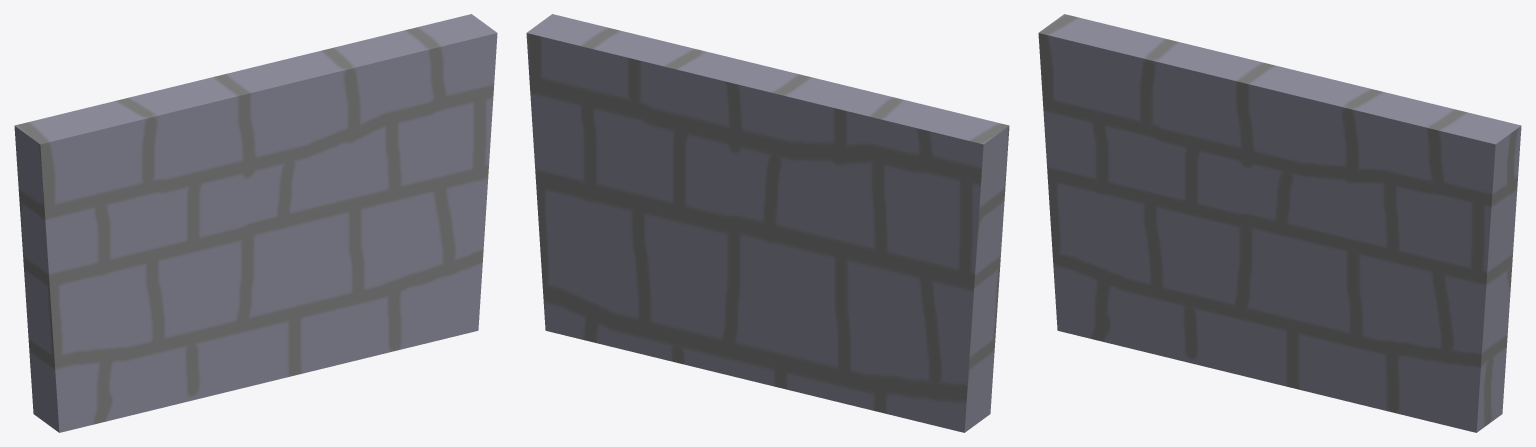
The model's file is wall.glb.
3 renders of one model, left to right at view 1: azimuth 30°, elevation 25°; view 2: azimuth 150°, elevation 25°; view 3: azimuth 330°, elevation 25°, orthographic.
Visible parts, largest first — view 1: Wall; view 2: Wall; view 3: Wall.
Part boxes in pixels (x1,y1,x2,y2): Wall: [14, 14, 497, 432]; Wall: [526, 14, 1009, 432]; Wall: [1038, 14, 1521, 432].
Size of the model in its own units: 4.08 by 2.5 by 0.4.
1 material, 1 textured.
